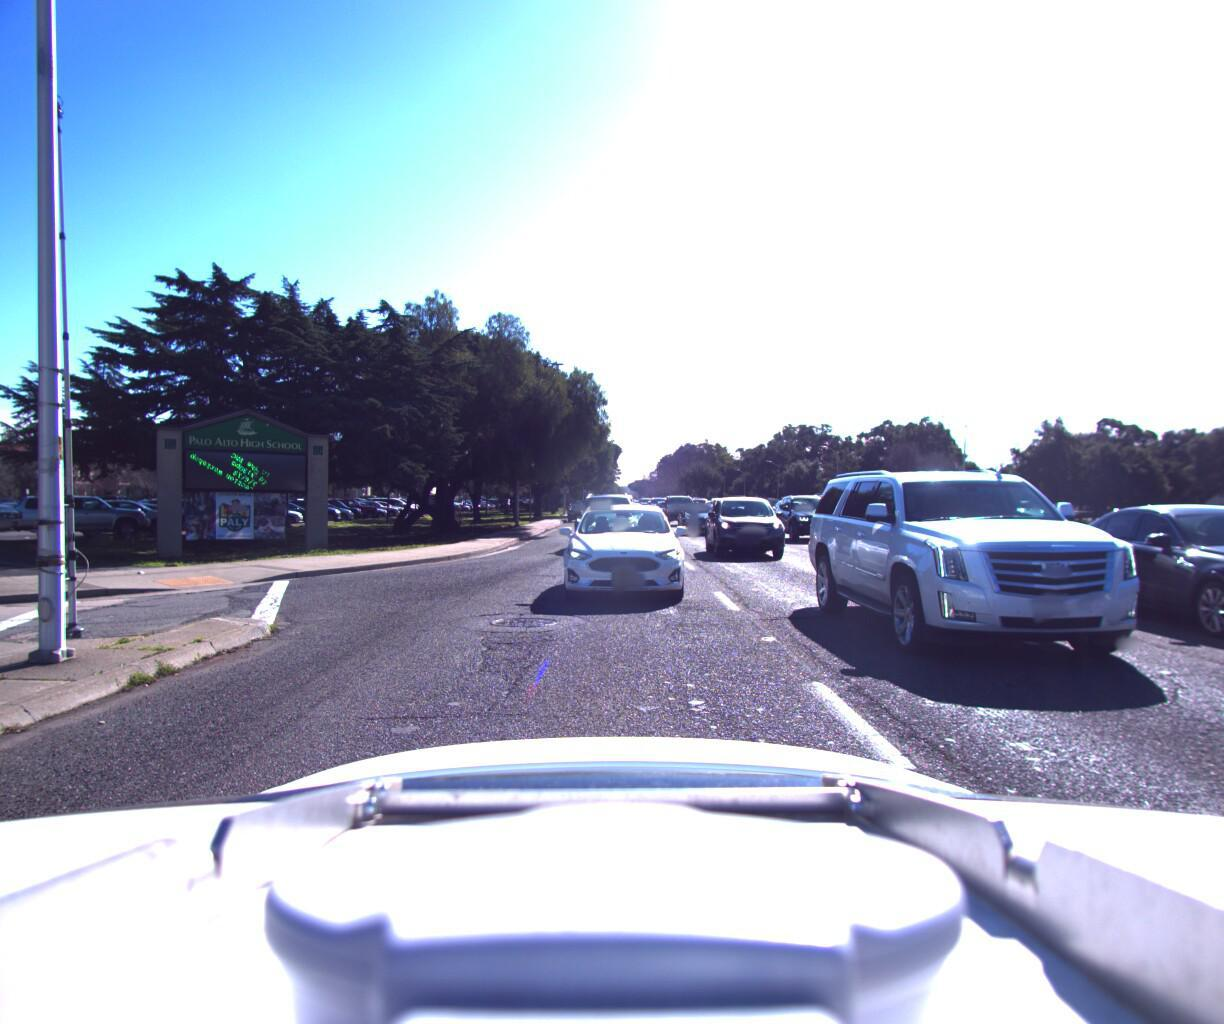car: (811, 440, 1222, 689), (1078, 504, 1224, 676), (567, 498, 699, 606), (702, 494, 793, 558), (767, 490, 849, 542), (574, 495, 642, 546), (1001, 503, 1066, 534), (674, 503, 725, 538), (662, 491, 696, 524), (1219, 507, 1224, 566)
